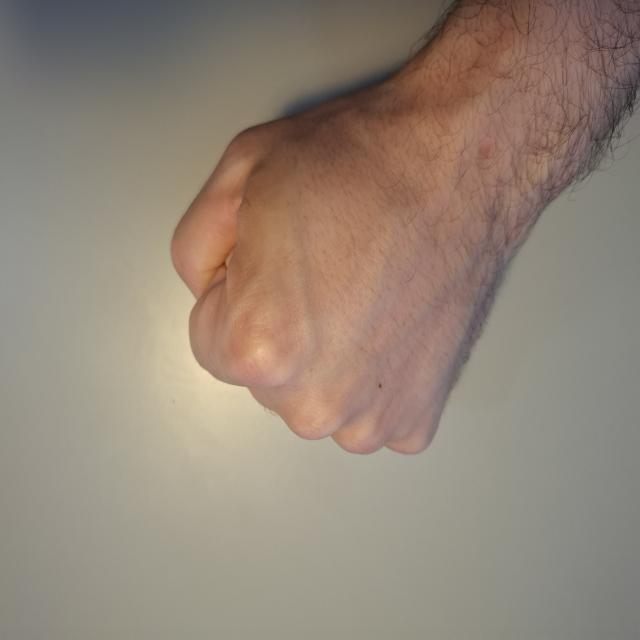glove_off: (167, 37, 562, 465)
